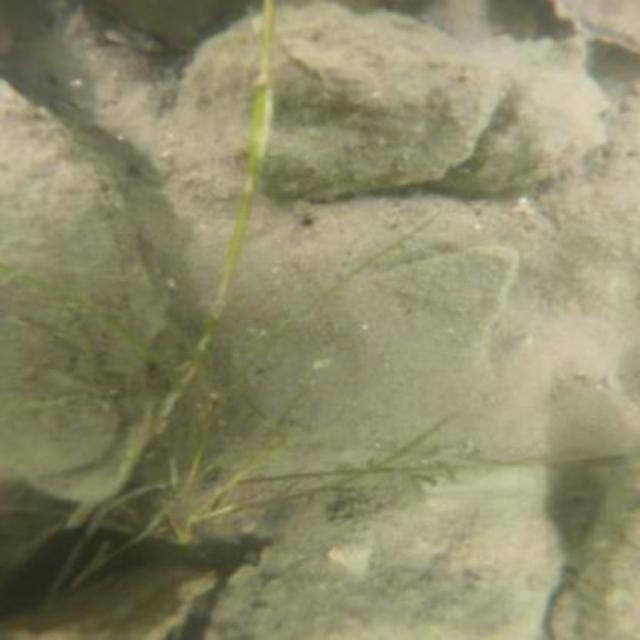Oyster-Closed: (196, 447, 560, 634), (3, 78, 159, 492), (177, 7, 490, 193), (436, 30, 605, 195), (1, 560, 220, 639), (551, 494, 640, 636)
